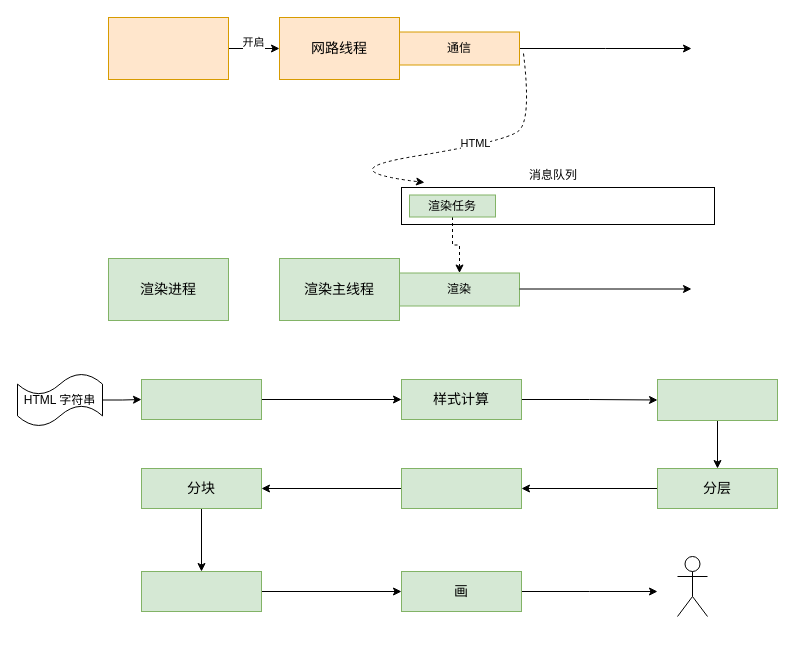
Image size: 795x655. Some labels were removed from this diagram. The centre of each missing label's shape, as x and y in pixels:
"HTML 解析" goes at (201,399).
"像素信息" goes at (692,586).
"光栅化" goes at (201,591).
"布局" goes at (717,399).
"绘制" goes at (461,488).
"网路进程" goes at (168,48).
